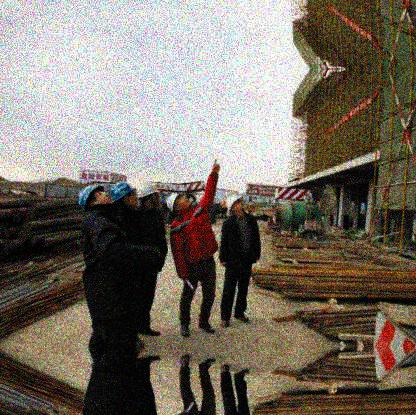helmet: (77, 185, 111, 211), (111, 182, 137, 208), (137, 183, 160, 207), (166, 192, 192, 213), (226, 194, 245, 216)
